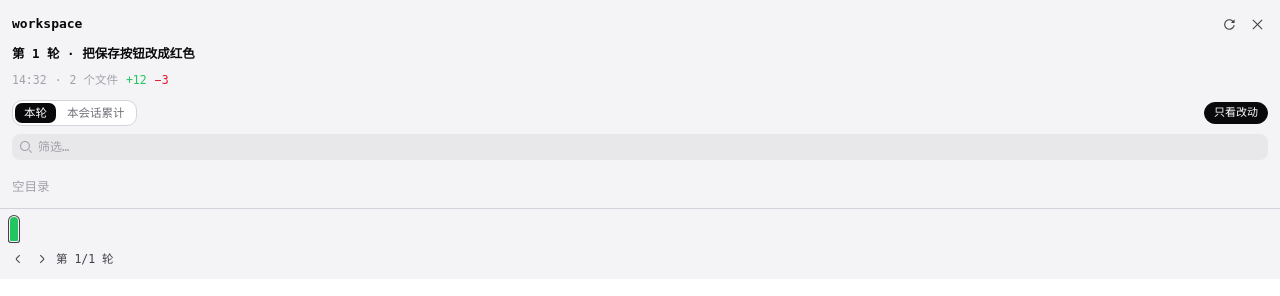
Test: ProjectPanel rounds › closes the round picker on Escape
Click the button with test id "growth-round-picker".
click(85, 259)  # box [56,247,1272,271]
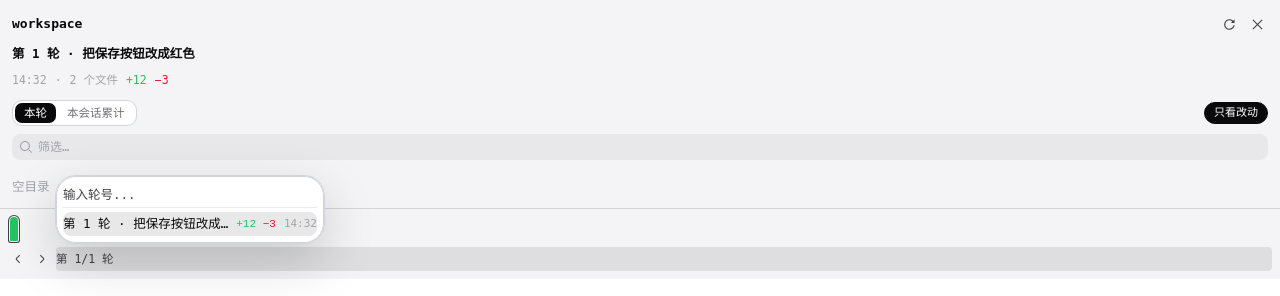
Now the list with test id "growth-round-list" is shown, box [56,176,324,243]
Press Escape
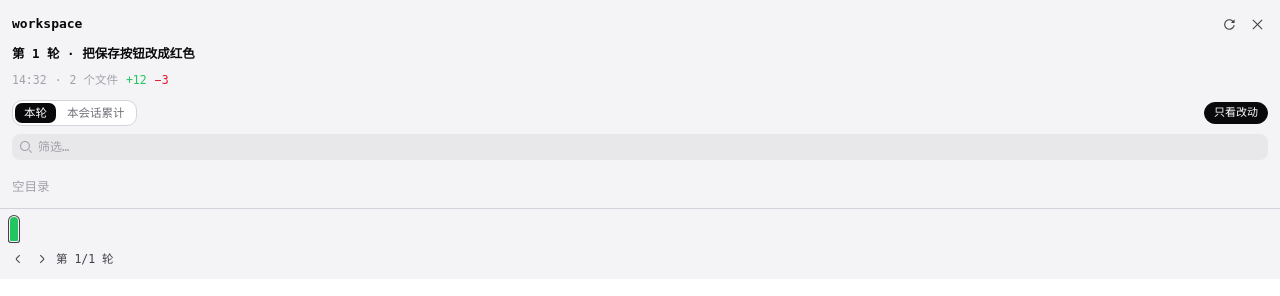
Now the list with test id "growth-round-list" is gone
